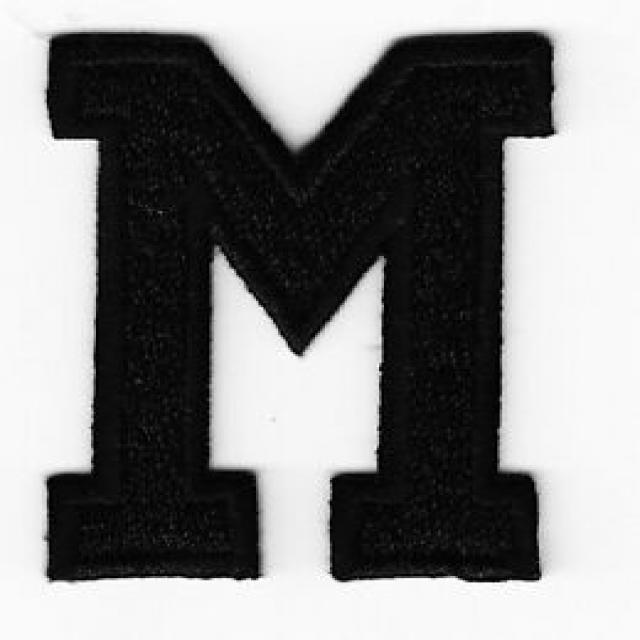M: (20, 15, 562, 602)
